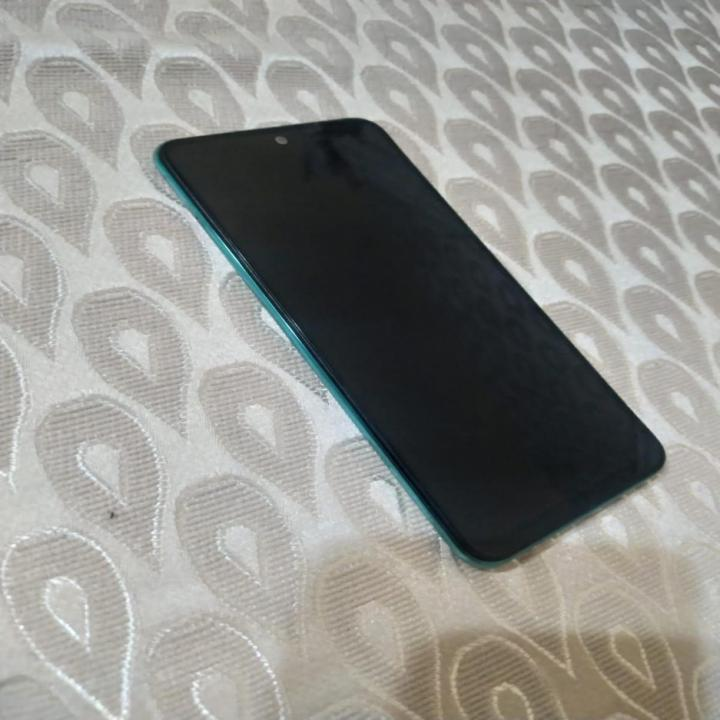phone good: (149, 73, 690, 567)
